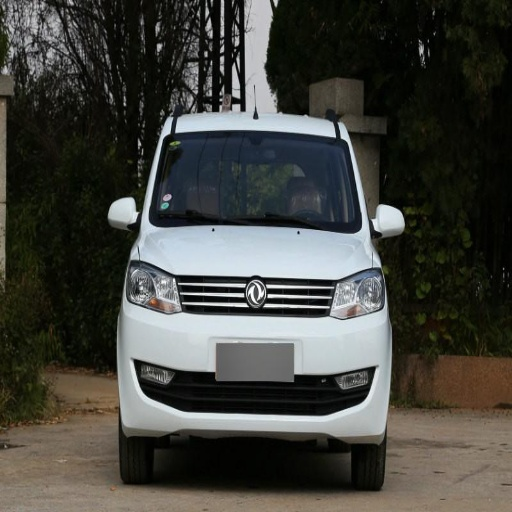front_bumper: (123, 275, 386, 443)
front_right_light: (126, 257, 183, 313)
hood: (140, 225, 373, 279)
